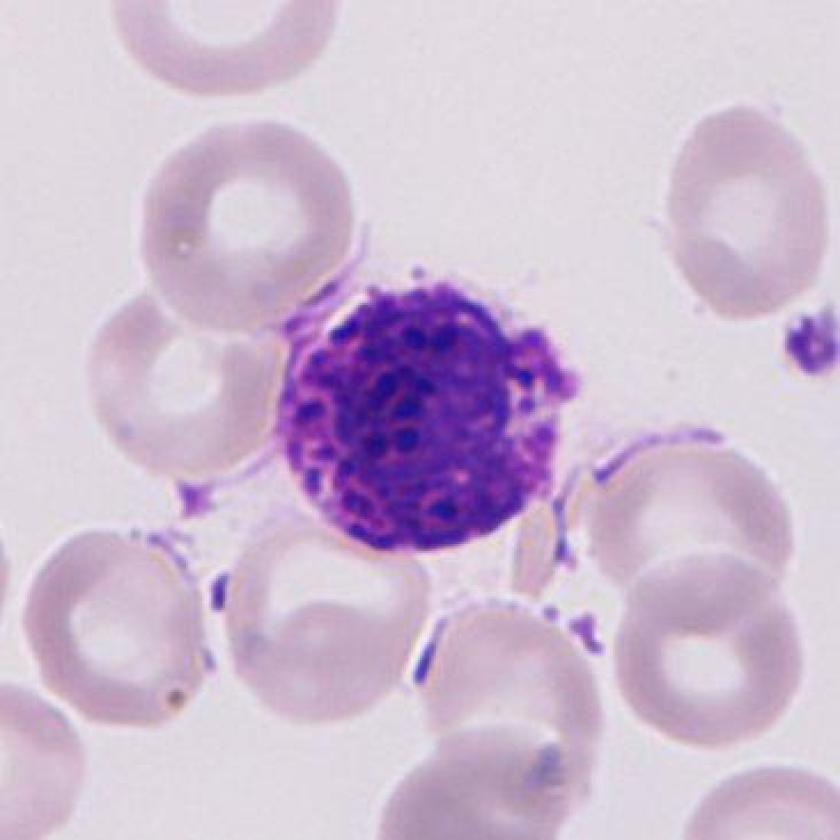basophil: (268, 267, 580, 561)
